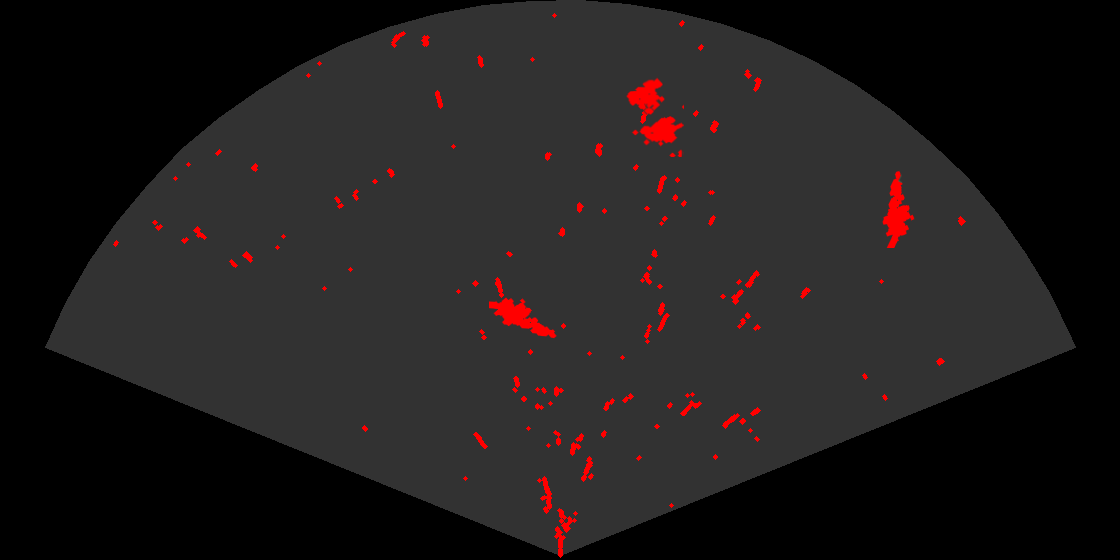cage: (625, 76, 684, 157)
frogman: (489, 296, 558, 340), (881, 169, 916, 248)
